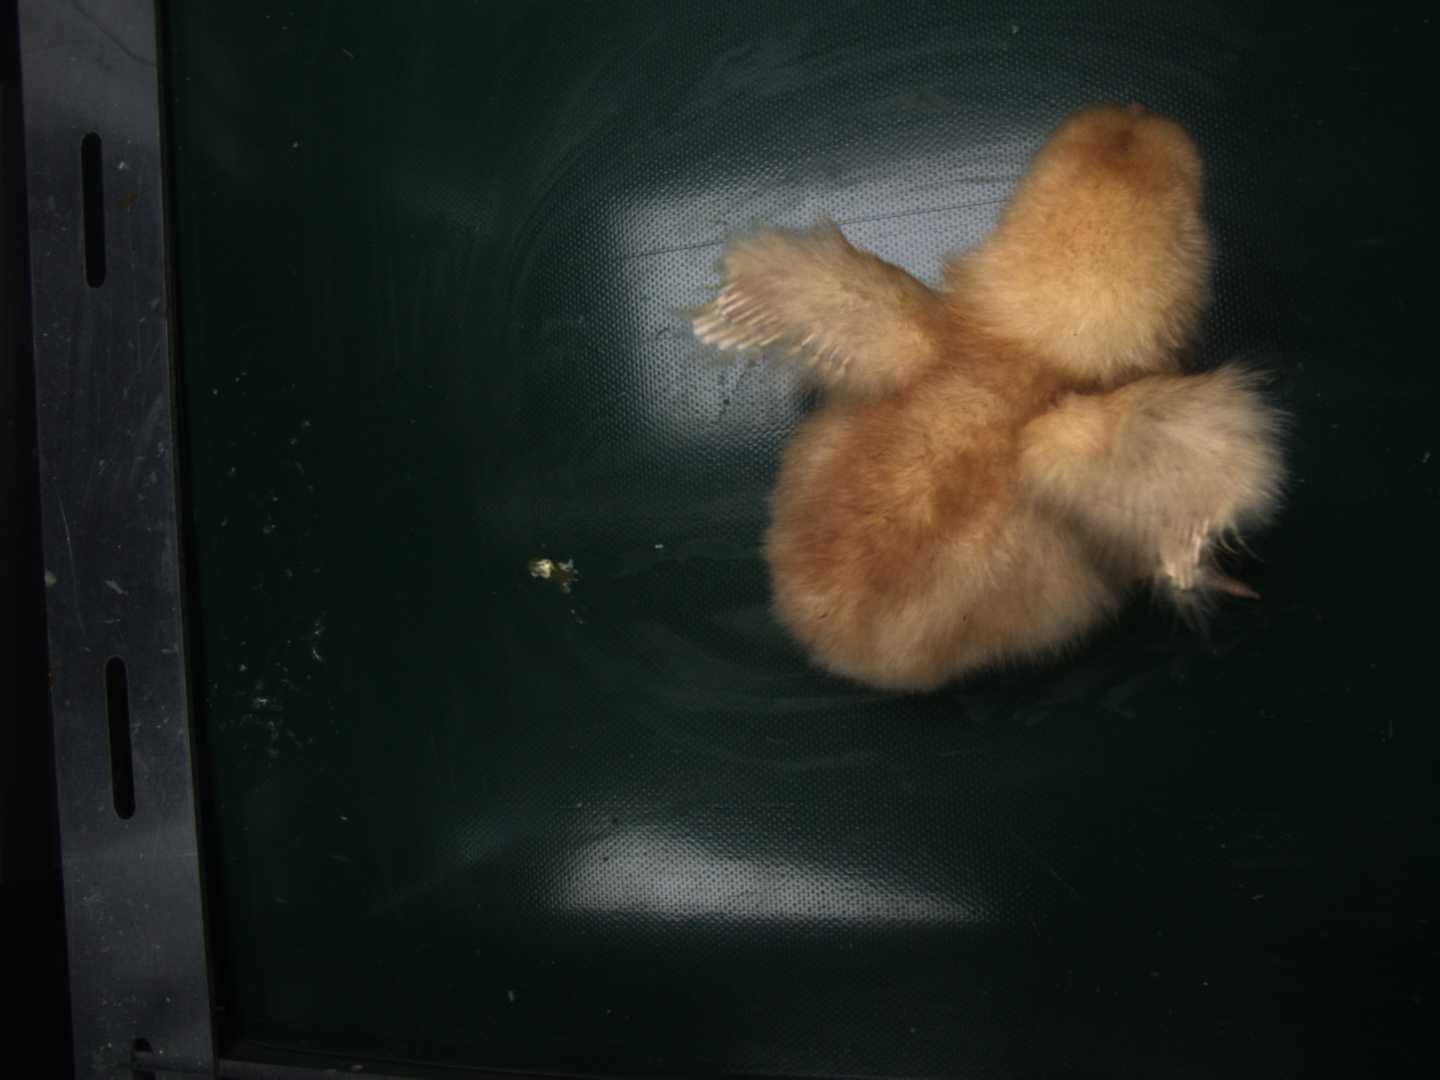female: (687, 281, 787, 352)
